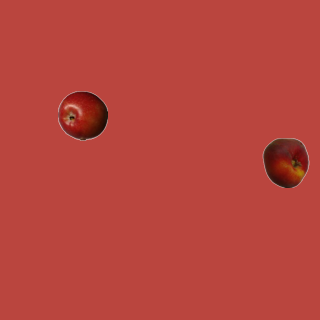Apple Braeburn: (57, 90, 107, 140)
Nectarine Flat: (260, 137, 310, 187)
